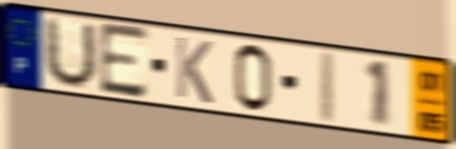0: (231, 42, 275, 113)
1: (362, 58, 392, 129)
E: (96, 20, 151, 102)
I: (316, 48, 337, 127)
K: (172, 33, 215, 107)
U: (42, 14, 100, 91)
